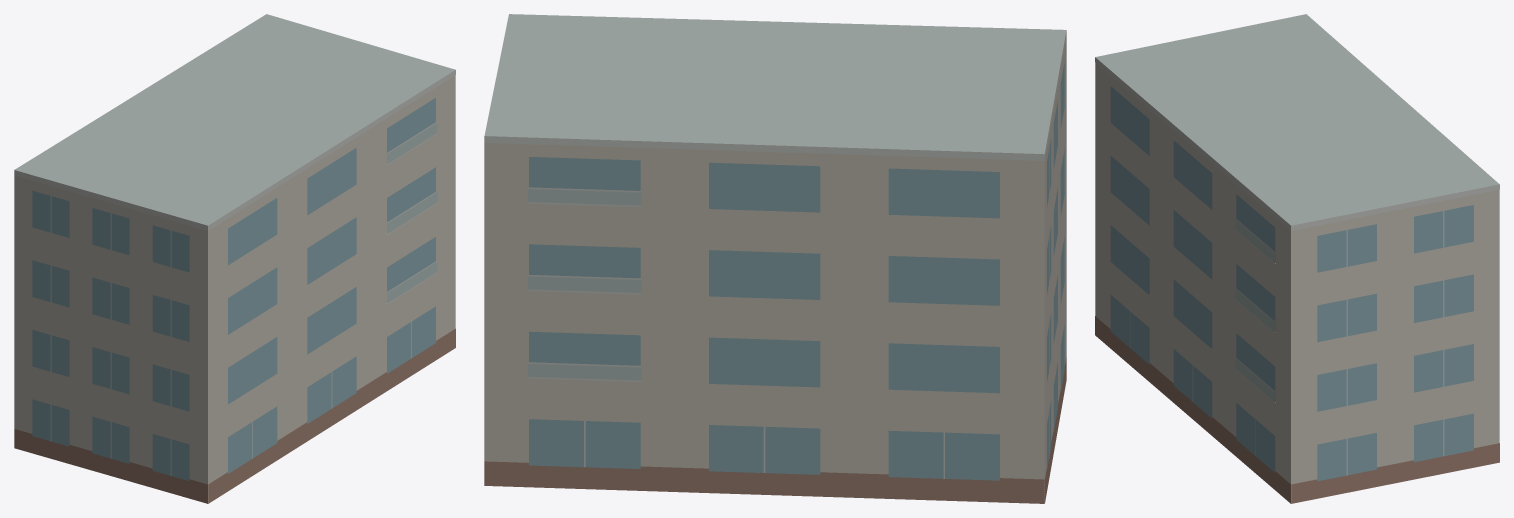
Rendered from survey-upis-32701589.glb.
3 renders of one model, left to right at view 1: azimuth 30°, elevation 25°; view 2: azimuth 150°, elevation 25°; view 3: azimuth 270°, elevation 25°, orthographic. The views are drawn at different scales.
Visible parts, largest first — view 1: survey-upis-32701589.tmp; view 2: survey-upis-32701589.tmp; view 3: survey-upis-32701589.tmp.
Part boxes in pixels (x1,y1,x2,y2): survey-upis-32701589.tmp: (14, 14, 455, 503); survey-upis-32701589.tmp: (484, 14, 1066, 503); survey-upis-32701589.tmp: (1095, 14, 1499, 503).
Bounding box in the file's own units: 20.9 × 12.8 × 16.88.
